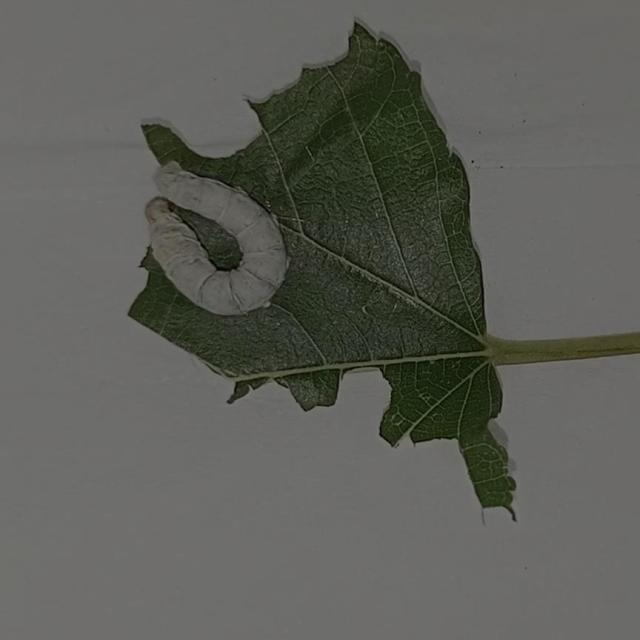Healthy: (137, 154, 294, 327)
